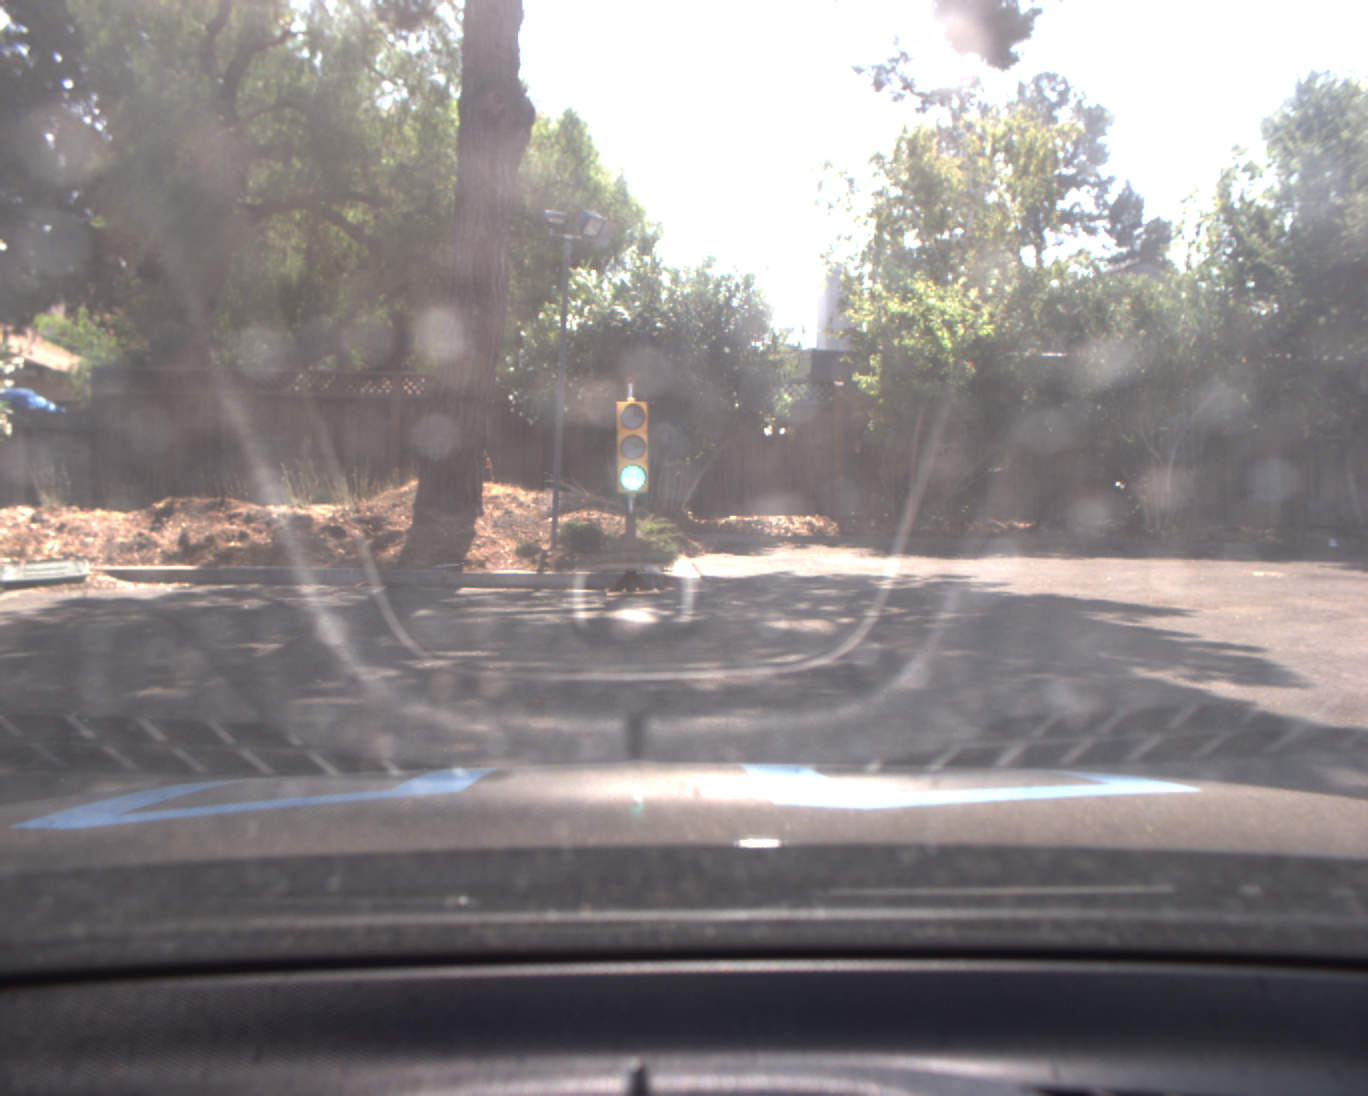green: (613, 394, 653, 497)
